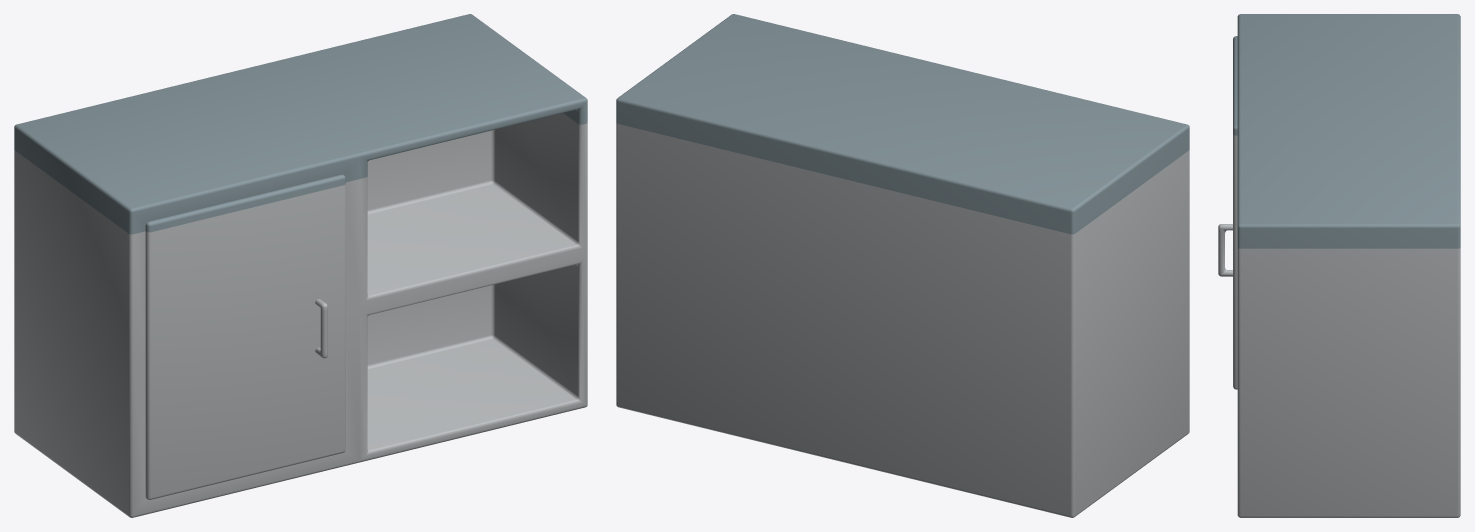
File: hp_cabinet_low.glb
3 views of the same model, side by side, from view 1: azimuth 30°, elevation 25°; view 2: azimuth 150°, elevation 25°; view 3: azimuth 270°, elevation 25° (orthographic). The views are drawn at different scales.
Parts seen in each view (by area): view 1: Cabinet_2; view 2: Cabinet_2; view 3: Cabinet_2.
Part boxes in pixels (bbox=[...]): Cabinet_2: bbox=[14, 14, 587, 517]; Cabinet_2: bbox=[616, 14, 1189, 517]; Cabinet_2: bbox=[1218, 14, 1460, 517].
Bounding box in the file's own units: 0.9615 × 0.62 × 0.4639.
